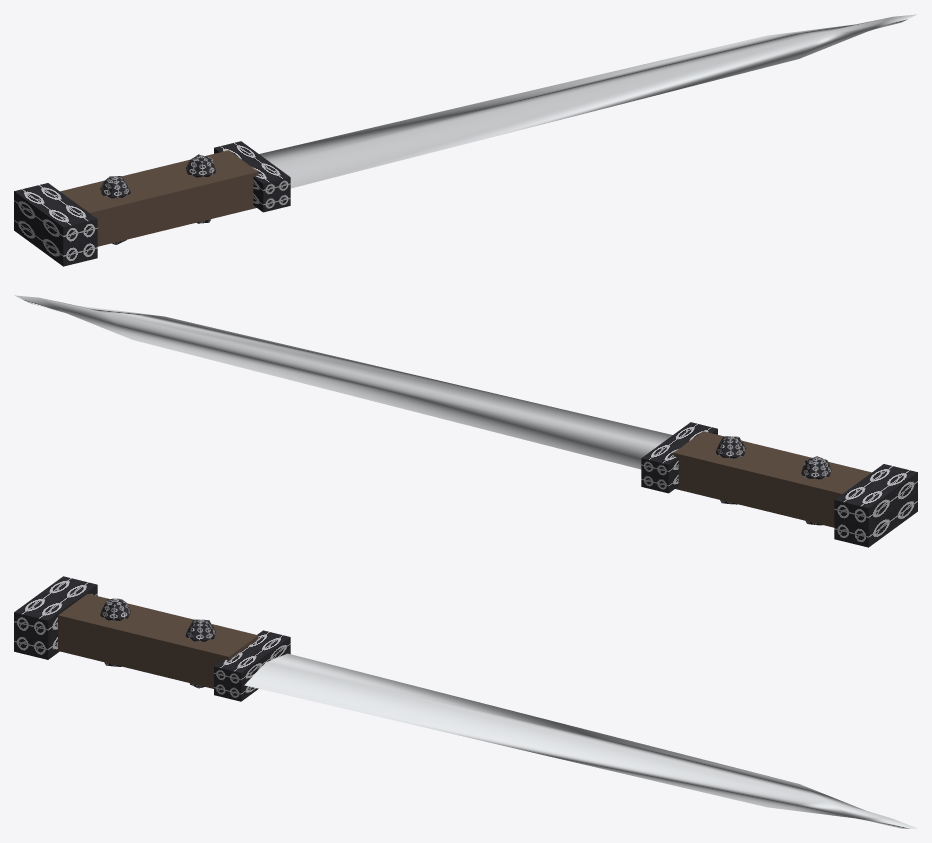
The model's file is kinjal_lod1.glb.
3 renders of one model, top to bottom at view 1: azimuth 30°, elevation 25°; view 2: azimuth 150°, elevation 25°; view 3: azimuth 330°, elevation 25°, orthographic.
Parts seen in each view (by area): view 1: m; view 2: m; view 3: m.
Part boxes in pixels (bbox=[...]): m: bbox=[14, 14, 917, 266]; m: bbox=[14, 295, 917, 547]; m: bbox=[14, 576, 917, 828].
Bounding box in the file's own units: 0.5147 × 0.038 × 0.05.
3 materials, 1 textured.
